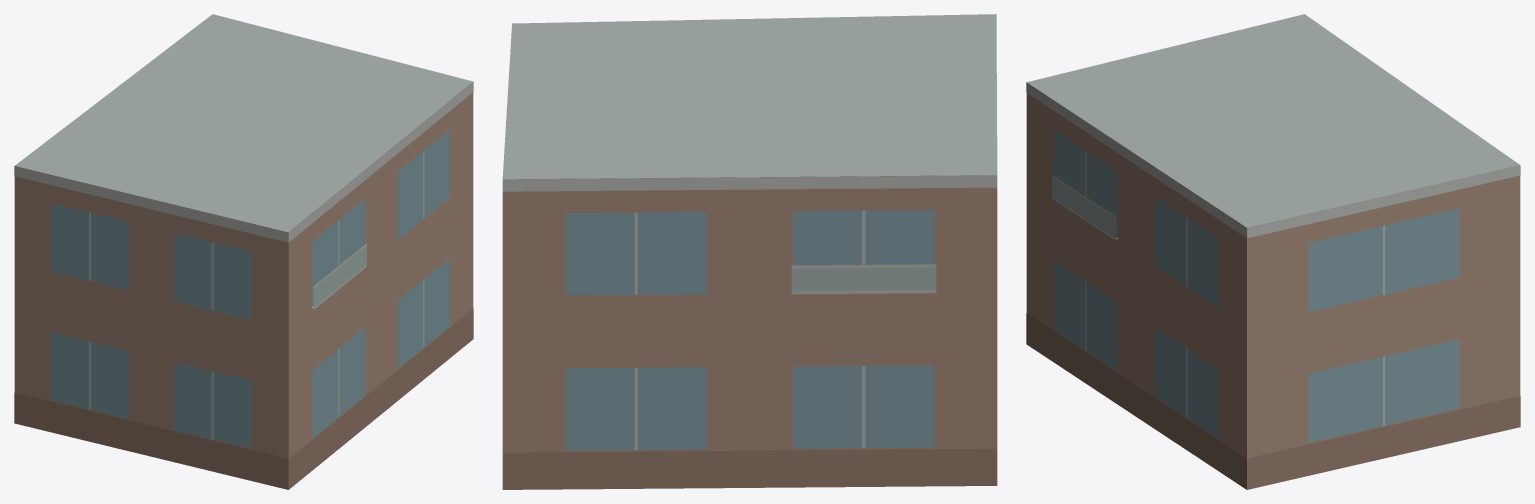
The model's file is survey-upis-32601003.glb.
The picture shows the model from 3 angles, left to right: view 1: azimuth 30°, elevation 25°; view 2: azimuth 150°, elevation 25°; view 3: azimuth 270°, elevation 25°; orthographic projection. The views are drawn at different scales.
Visible parts, largest first — view 1: survey-upis-32601003.tmp; view 2: survey-upis-32601003.tmp; view 3: survey-upis-32601003.tmp.
Boxes of the visible parts, x1,y1,x2,y2 form: survey-upis-32601003.tmp: (14, 14, 473, 489); survey-upis-32601003.tmp: (502, 14, 997, 489); survey-upis-32601003.tmp: (1026, 14, 1520, 489).
Bounding box in the file's own units: 10.69 × 6.1 × 10.43.
